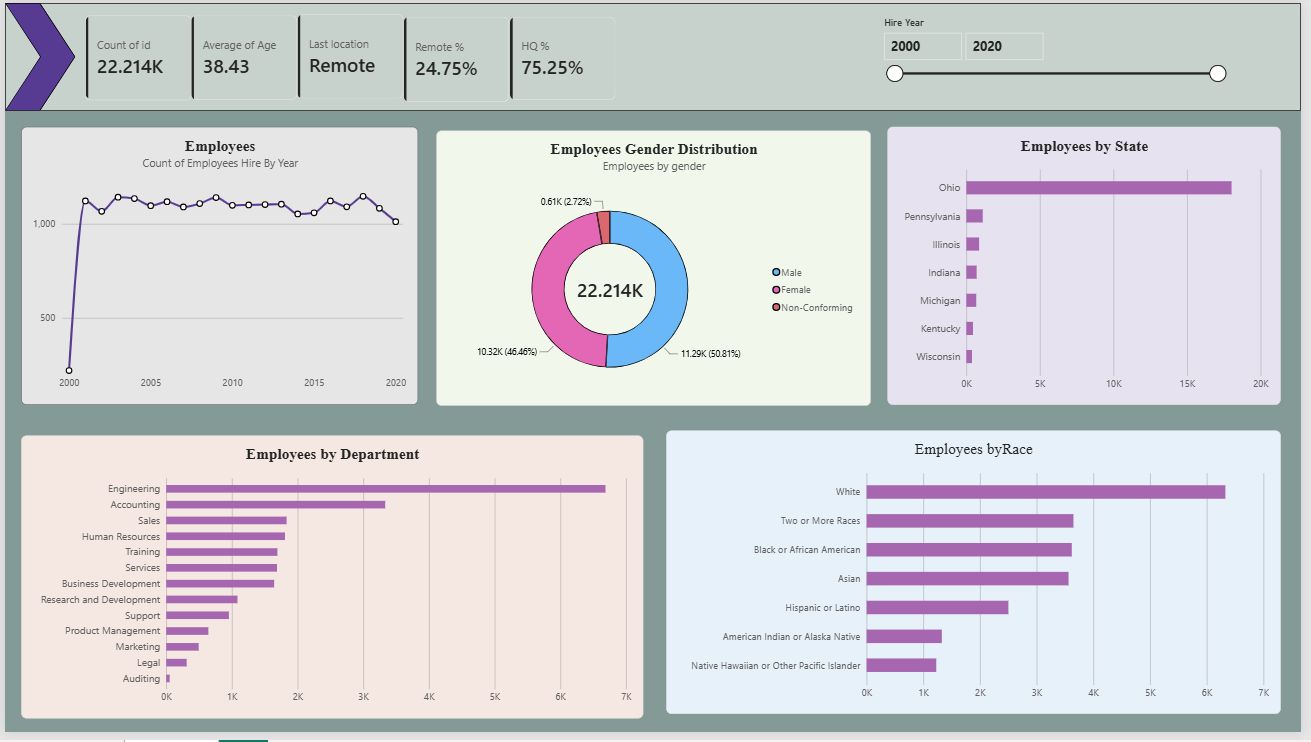

This screenshot's page, from the dashboard's own definition file:
{"tool":"powerbi","page":{"name":"Page 1","canvas":[1920,1080],"ordinal":0},"visuals":[{"type":"shape","box":[0,0,1920,160],"z":0},{"type":"shape","box":[0,0,104.3,159.6],"z":1000},{"type":"cardVisual","fields":{"Data":["CountNonNull(project_hr_analytics HR.id)"]},"box":[119.1,19.1,157.4,125.5],"z":2000},{"type":"cardVisual","fields":{"Data":["Avg(project_hr_analytics HR.Age)"]},"box":[276.6,19.1,157.4,125.5],"z":3000},{"type":"cardVisual","fields":{"Data":["Max(project_hr_analytics HR.location)"]},"box":[434,17,157.4,125.5],"z":4000},{"type":"cardVisual","fields":{"Data":["project_hr_analytics HR.Remote %"]},"box":[591.3,19.6,156.5,126.1],"z":5000},{"type":"cardVisual","fields":{"Data":["project_hr_analytics HR.HQ %"]},"box":[747.8,19.6,156.5,123.9],"z":6000},{"type":"lineChart","title":"Employees","fields":{"Y":["CountNonNull(project_hr_analytics HR.id)"],"Category":["project_hr_analytics HR.Hire Year"]},"box":[24,184,588,412],"z":7000},{"type":"donutChart","title":"Employees Gender Distribution","fields":{"Category":["project_hr_analytics HR.gender"],"Y":["CountNonNull(project_hr_analytics HR.id)"]},"box":[638,188,644,408],"z":8000},{"type":"clusteredBarChart","title":"Employees by State","fields":{"Category":["project_hr_analytics HR.location_state"],"Y":["CountNonNull(project_hr_analytics HR.id)"]},"box":[1308,184,582,412],"z":9000},{"type":"clusteredBarChart","title":"Employees by Department","fields":{"Y":["CountNonNull(project_hr_analytics HR.id)"],"Category":["project_hr_analytics HR.department"]},"box":[23.4,640.4,921.3,419.1],"z":10000},{"type":"clusteredBarChart","title":"Employees byRace","fields":{"Category":["project_hr_analytics HR.race"],"Y":["CountNonNull(project_hr_analytics HR.id)"]},"box":[980,634,910,420],"z":11000},{"type":"slicer","fields":{"Values":["project_hr_analytics HR.Hire Year"]},"box":[1294,20,518,166],"z":12000}]}

Visuals, with their boxes in screenshot pixels (x1, y1, x2, y2), scaled from the page's 1920x1080 canvas onto the 1311x742 screenshot:
shape: x1=0 y1=0 x2=1310 y2=110
shape: x1=0 y1=0 x2=71 y2=110
cardVisual - CountNonNull(project_hr_analytics HR.id): x1=81 y1=13 x2=189 y2=99
cardVisual - Avg(project_hr_analytics HR.Age): x1=189 y1=13 x2=296 y2=99
cardVisual - Max(project_hr_analytics HR.location): x1=296 y1=12 x2=404 y2=98
cardVisual - project_hr_analytics HR.Remote %: x1=404 y1=13 x2=511 y2=100
cardVisual - project_hr_analytics HR.HQ %: x1=511 y1=13 x2=617 y2=99
"Employees" lineChart: x1=16 y1=126 x2=418 y2=409
"Employees Gender Distribution" donutChart: x1=436 y1=129 x2=875 y2=409
"Employees by State" clusteredBarChart: x1=893 y1=126 x2=1291 y2=409
"Employees by Department" clusteredBarChart: x1=16 y1=440 x2=645 y2=728
"Employees byRace" clusteredBarChart: x1=669 y1=436 x2=1291 y2=724
slicer - project_hr_analytics HR.Hire Year: x1=884 y1=14 x2=1237 y2=128
